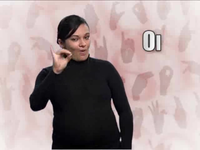oi: (50, 44, 72, 72)
